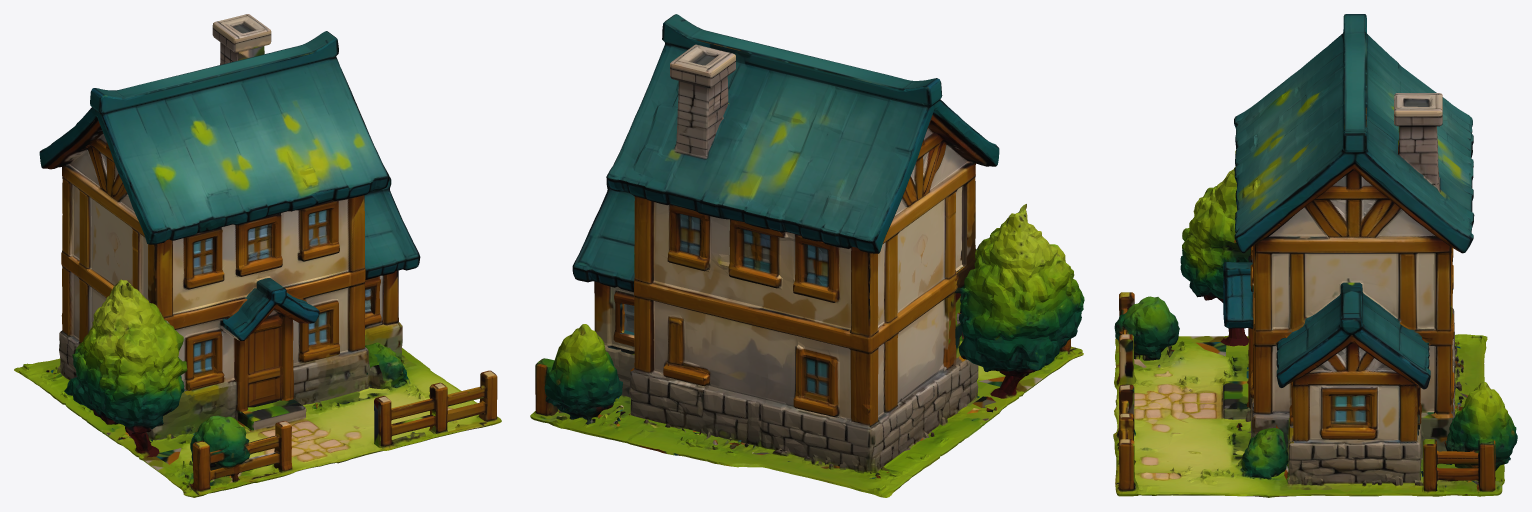
File: garden-chimney-home.glb
The picture shows the model from 3 angles, left to right: view 1: azimuth 30°, elevation 25°; view 2: azimuth 150°, elevation 25°; view 3: azimuth 270°, elevation 25°; orthographic projection. The views are drawn at different scales.
Parts seen in each view (by area): view 1: textured; view 2: textured; view 3: textured.
Boxes of the visible parts, box(x1,y1,x2,y2) form: textured: box(14, 14, 501, 497); textured: box(530, 14, 1084, 497); textured: box(1113, 14, 1517, 497).
Bounding box in the file's own units: 8.54 × 7.37 × 7.99.
Materials: 1 (1 with a texture image).
